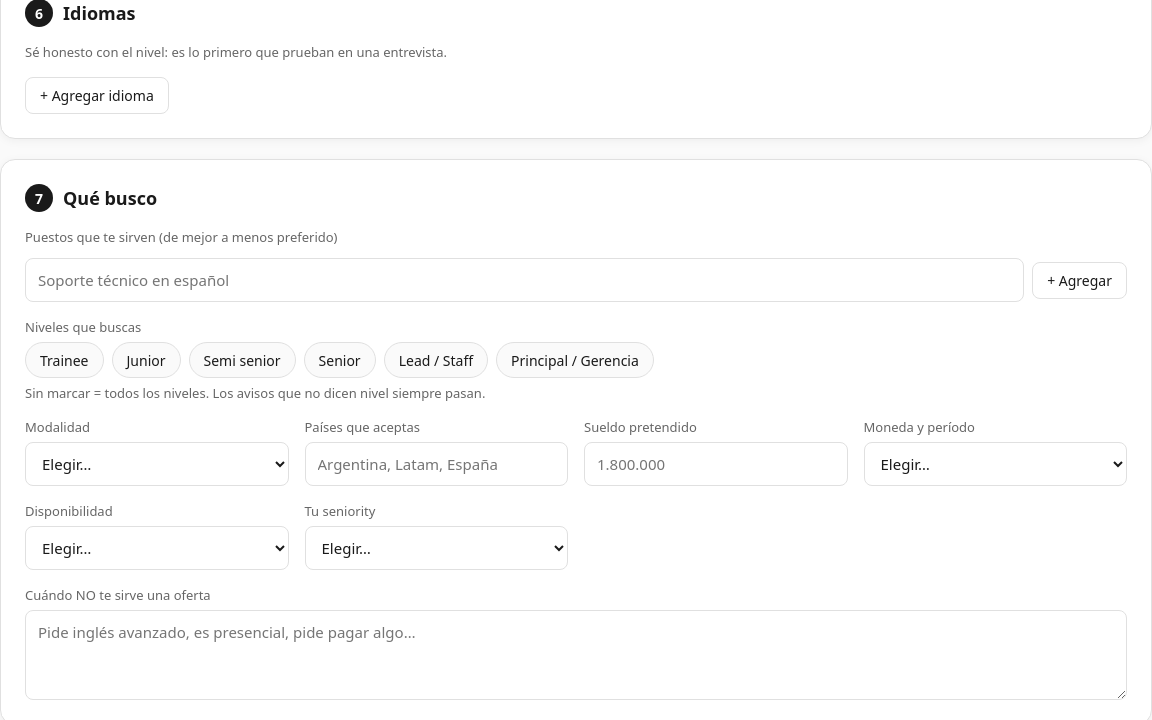
Test case: PerfilPage › los niveles que buscas se marcan, se desmarcan y se mandan al guardar
(page scrolled)
Expected: the text "Sin marcar = todos los niveles" is shown, [25,384,485,402]
Click the button "Junior". click: (146, 360)
box: [112,342,180,378]
(page scrolled)
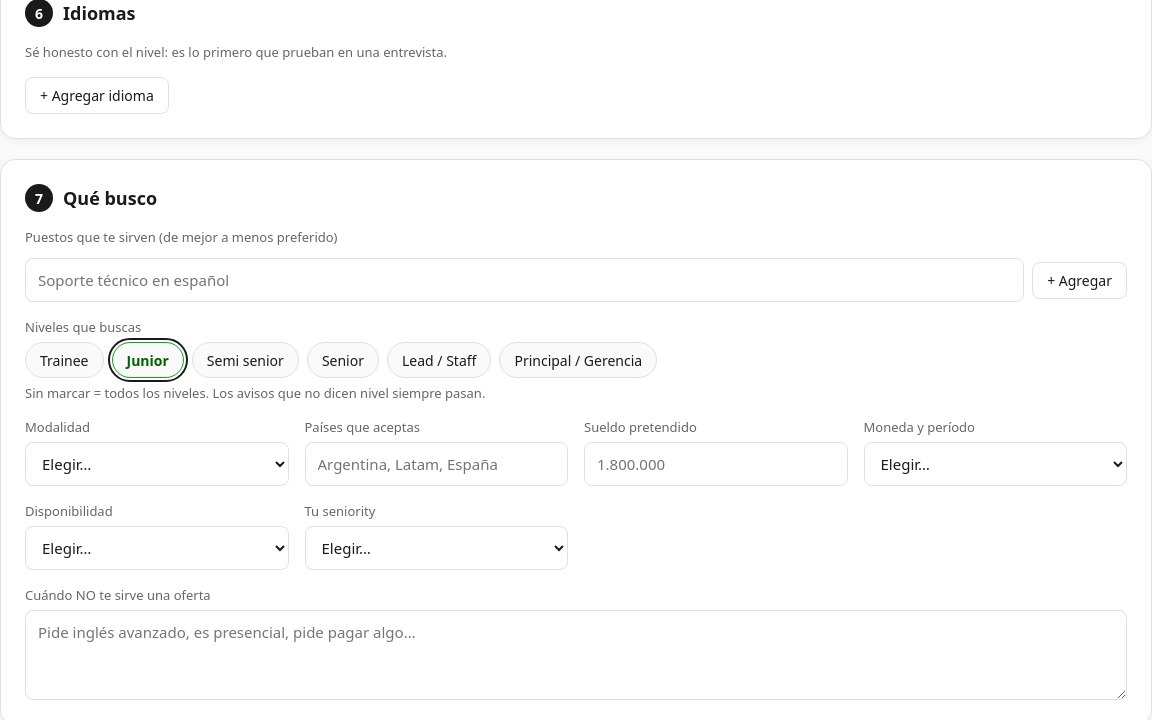
Click the button "Senior". click: (343, 360)
box: [307,342,379,378]
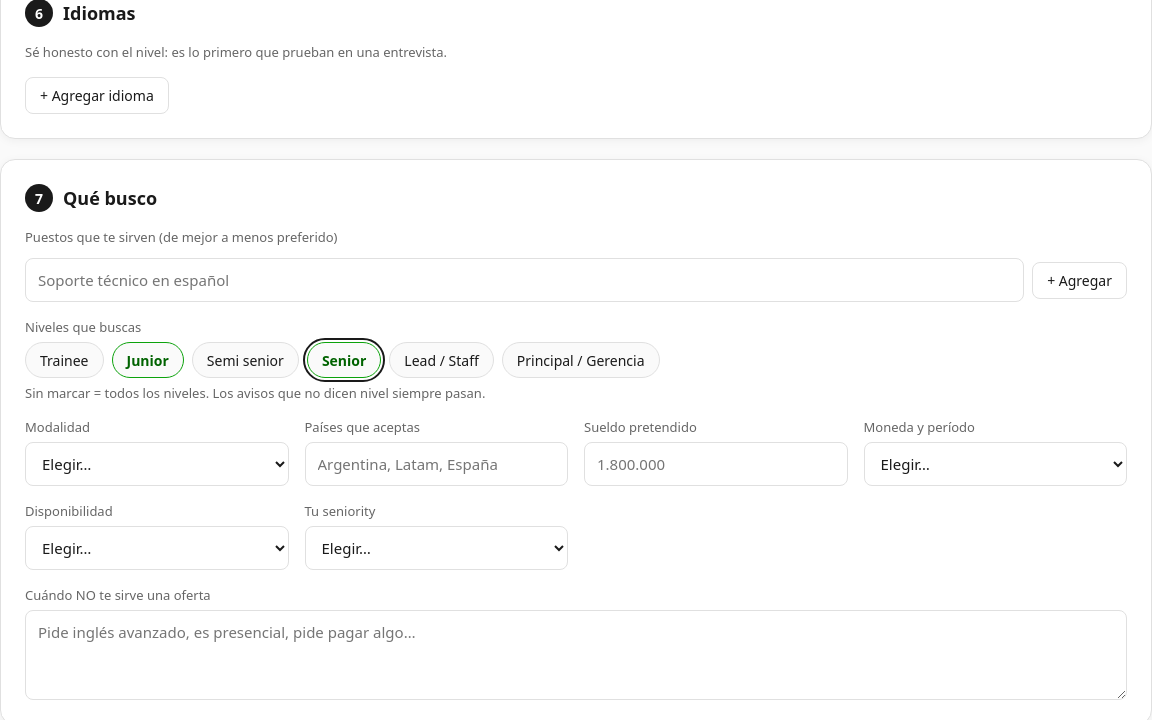
Click the button "Senior". click: (344, 360)
box: [307,342,381,378]
(page scrolled)
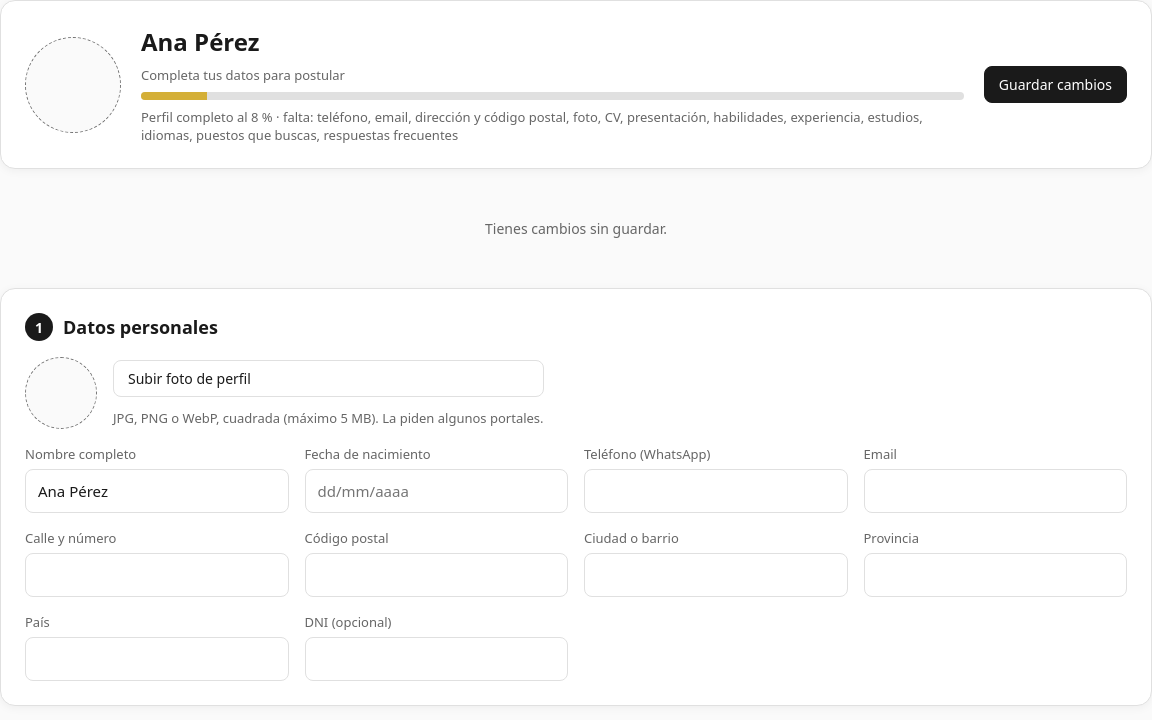
Click the button "Guardar cambios". click: (1055, 84)
box: [984,66,1127,103]
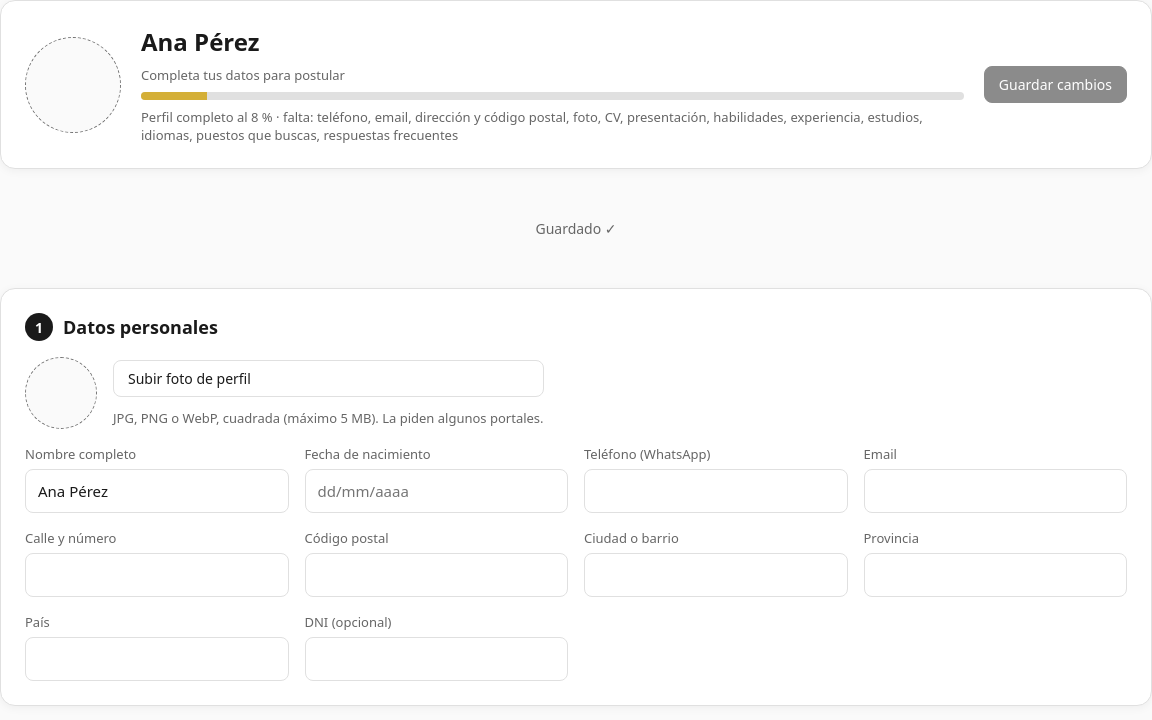
Result: the text "Guardado ✓" is shown at [535,219,616,238]
